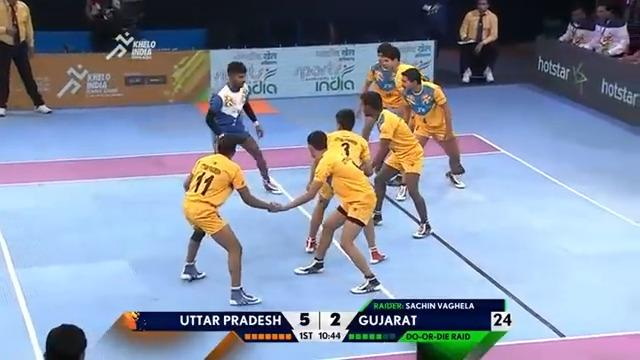Player: (268, 129, 383, 294), (179, 132, 281, 305), (358, 90, 432, 238), (357, 42, 418, 200), (394, 67, 466, 199), (0, 0, 52, 116)
Raider: (204, 60, 282, 195)
referee: (456, 0, 499, 83)
